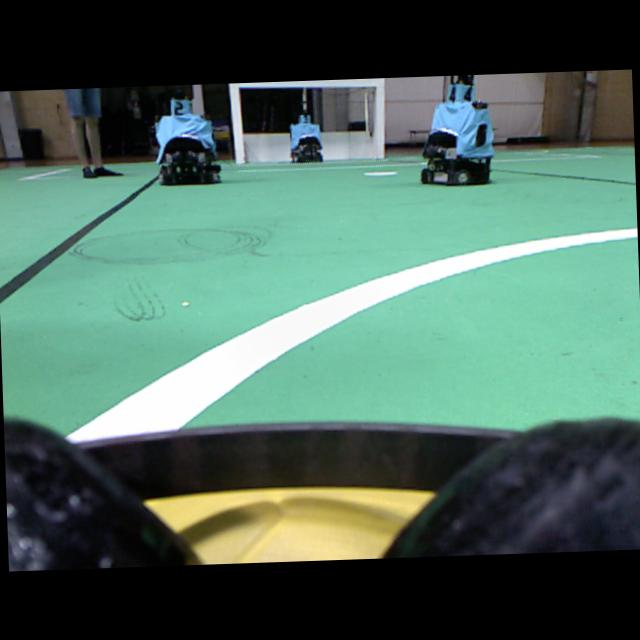ball: (144, 487, 433, 562)
goal: (229, 83, 244, 163), (373, 78, 384, 157)
